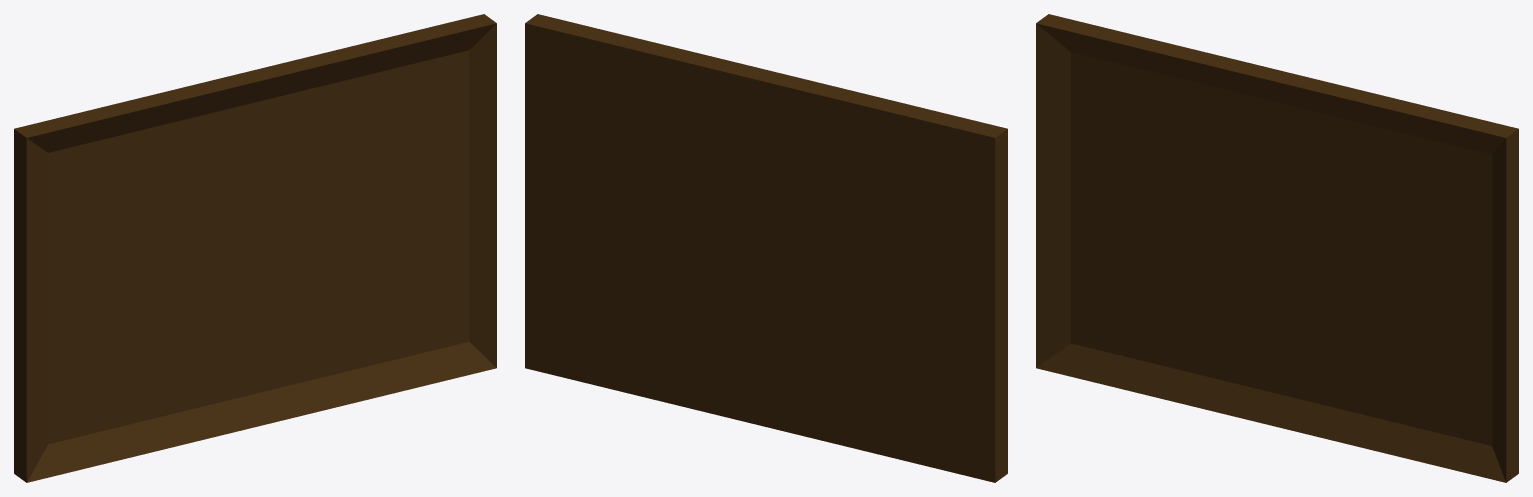
Rendered from cabainet1 doors.fbx.
3 views of the same model, side by side, from view 1: azimuth 30°, elevation 25°; view 2: azimuth 150°, elevation 25°; view 3: azimuth 330°, elevation 25° (orthographic).
Visible parts, largest first — view 1: Object065; view 2: Object065; view 3: Object065.
Part boxes in pixels (box(x1,y1,x2,y2)): Object065: box(14, 14, 496, 482); Object065: box(525, 14, 1007, 482); Object065: box(1036, 14, 1518, 482).
Size of the model in its own units: 4.6 by 3.22 by 0.215.
